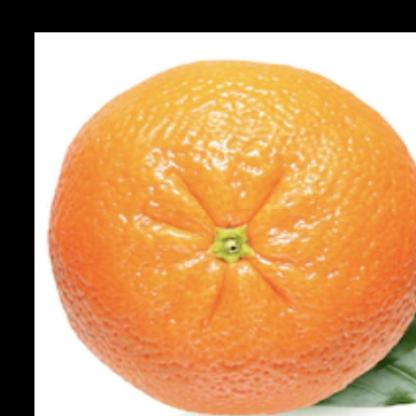fresh: (53, 61, 416, 416)
